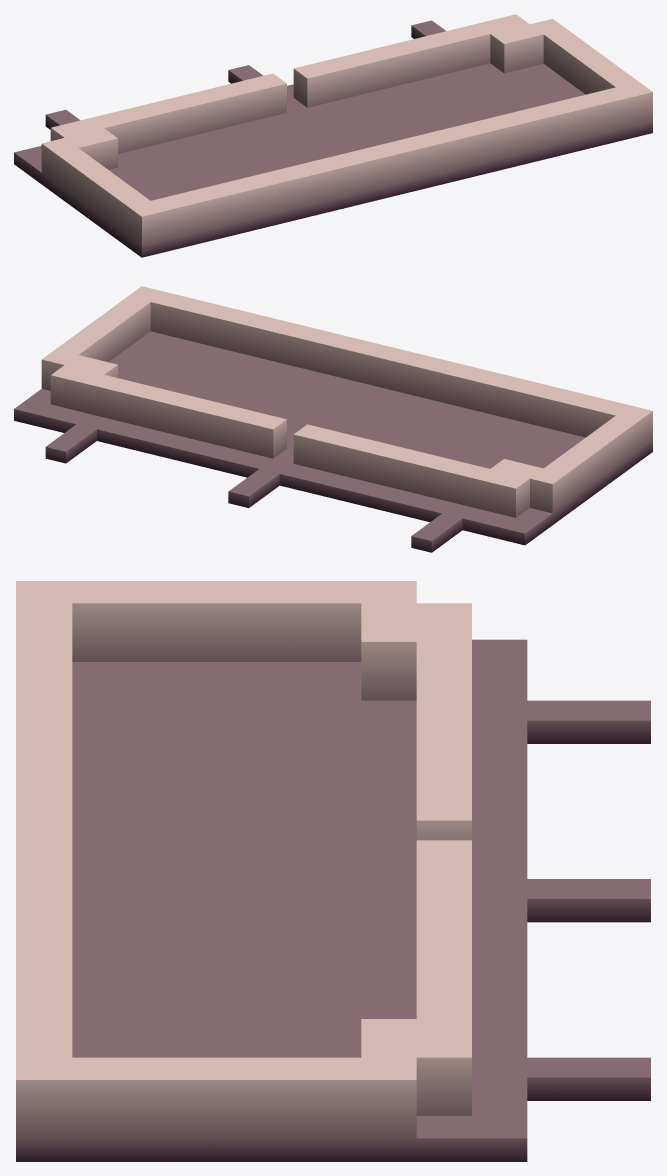
3 renders of one model, top to bottom at view 1: azimuth 30°, elevation 25°; view 2: azimuth 150°, elevation 25°; view 3: azimuth 270°, elevation 25°, orthographic. The views are drawn at different scales.
Visible parts, largest first — view 1: Cube.078; view 2: Cube.078; view 3: Cube.078.
Boxes of the visible parts, bbox=[...] form: Cube.078: bbox=[14, 14, 652, 257]; Cube.078: bbox=[14, 286, 652, 552]; Cube.078: bbox=[16, 581, 650, 1161].
Size of the model in its own units: 216 by 16.55 by 116.
